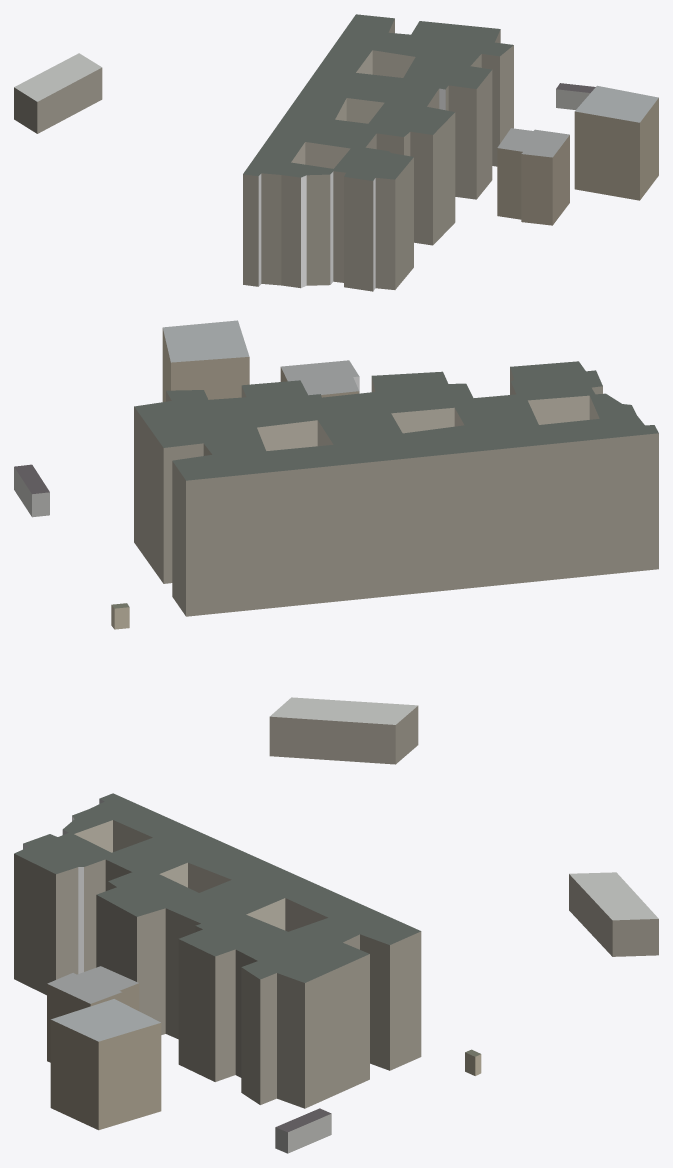
The picture shows the model from 3 angles, top to bottom: view 1: azimuth 30°, elevation 25°; view 2: azimuth 150°, elevation 25°; view 3: azimuth 270°, elevation 25°; orthographic projection. The views are drawn at different scales.
Parts seen in each view (by area): view 1: tuile; view 2: tuile; view 3: tuile.
Boxes of the visible parts, x1,y1,x2,y2 form: tuile: (14, 14, 658, 291); tuile: (14, 320, 658, 764); tuile: (14, 793, 658, 1153).
Size of the model in its own units: 164 by 38.18 by 178.
